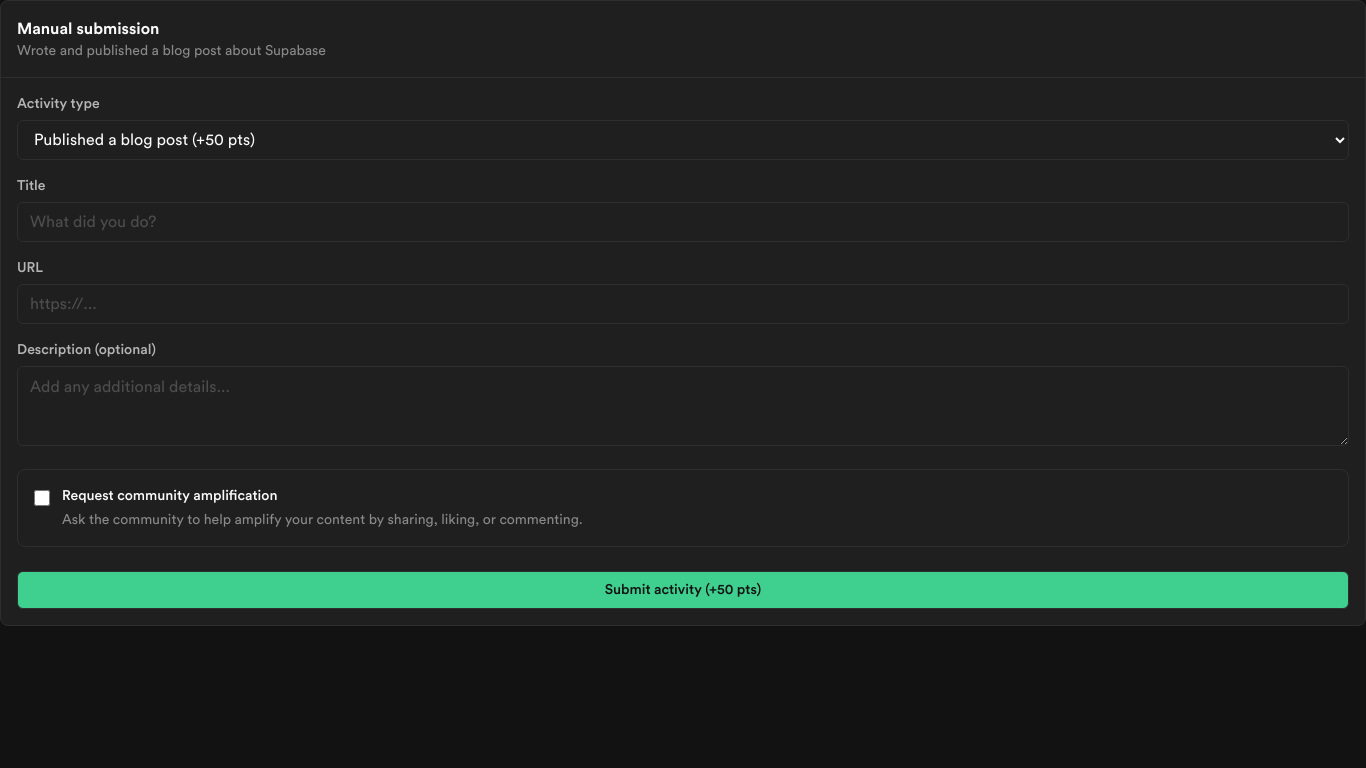
it: ActivityForm component › when submitting the form › should show error when submission fails
In the field labelled "Title": (683, 222) [17,202,1349,242], type "Test Blog Post"
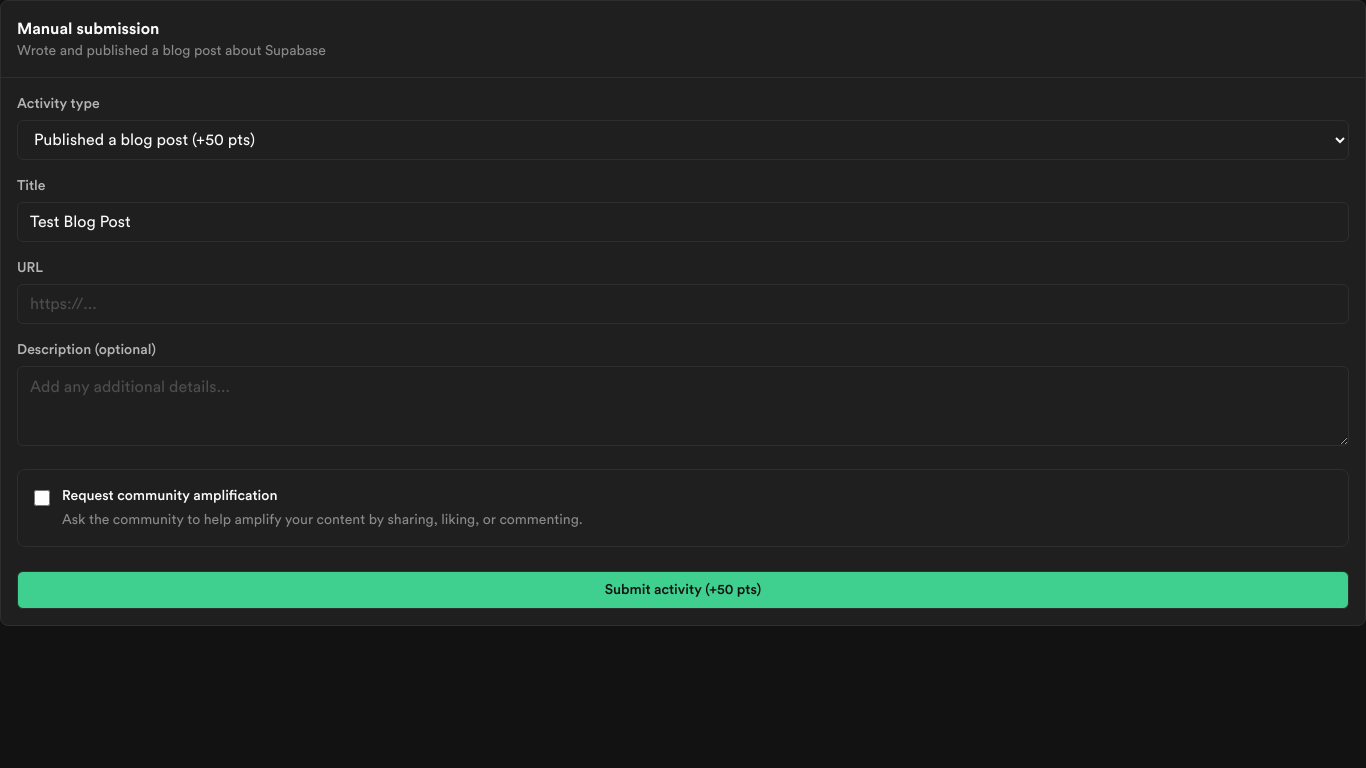
In the field labelled "URL": (683, 304) [17,284,1349,324], type "https://example.com/blog"
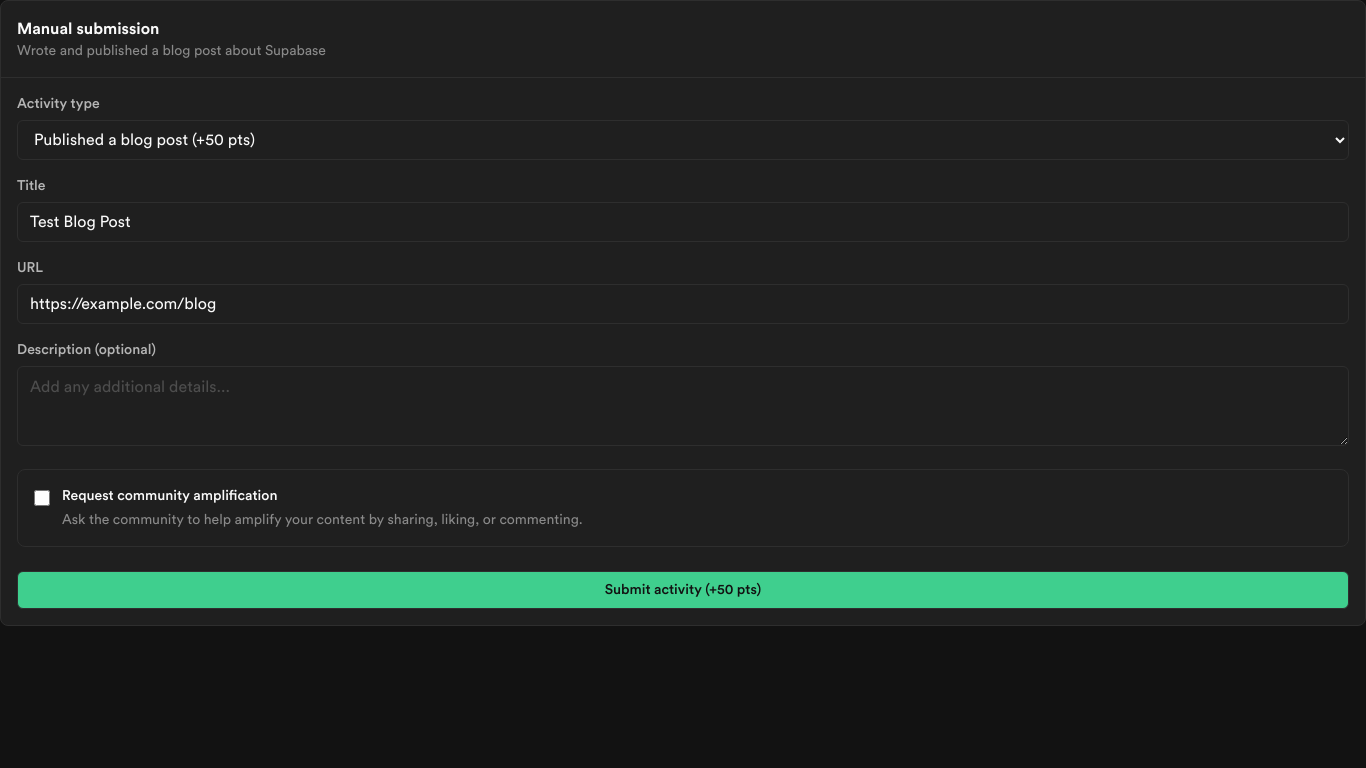
Click the button "Submit activity (+50 pts)": (683, 590) [17,571,1349,609]
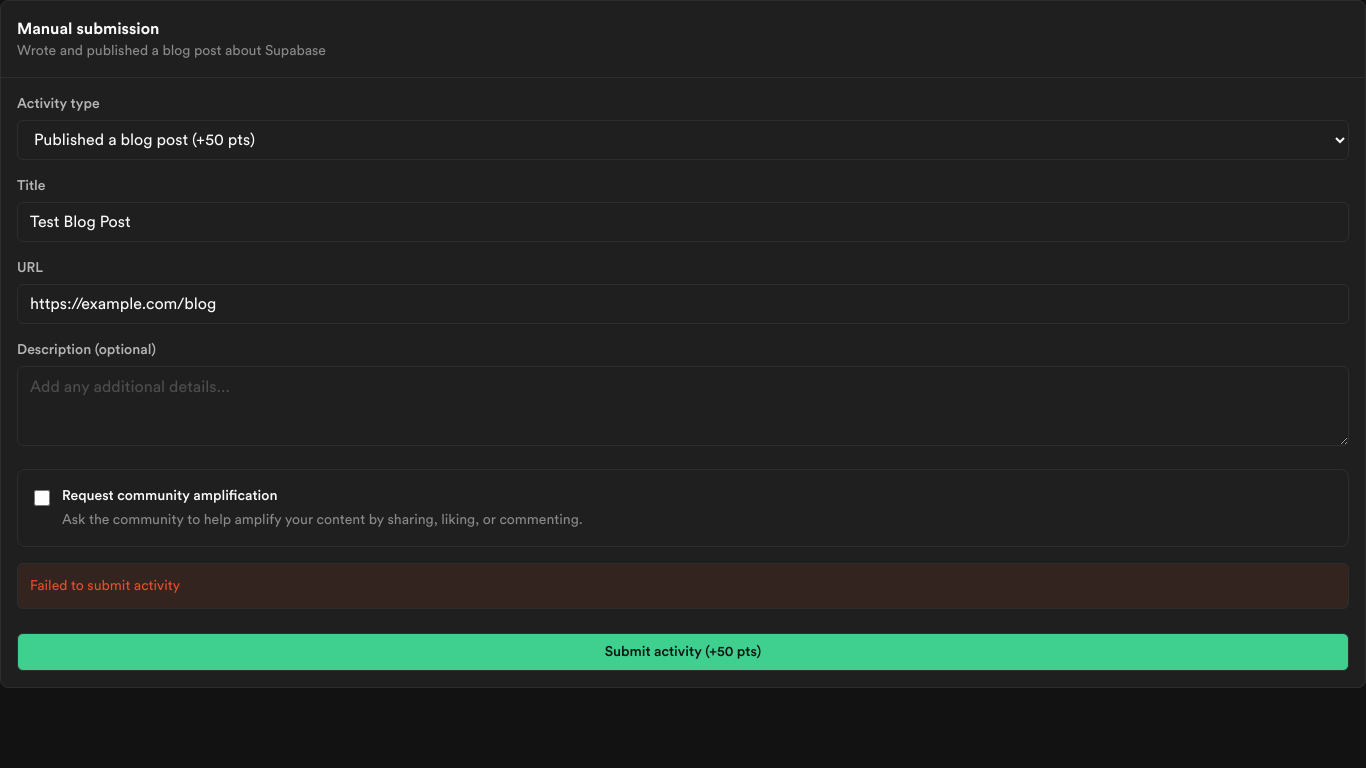
Result: the text "Failed to submit activity" is shown at [30,579,180,593]
